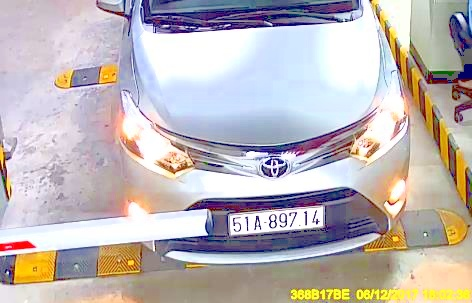plate: (225, 205, 326, 235)
